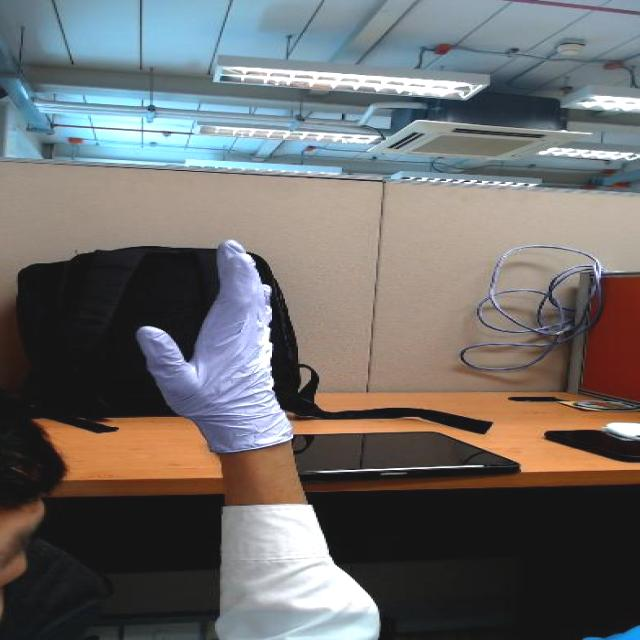glove: (115, 227, 315, 433)
